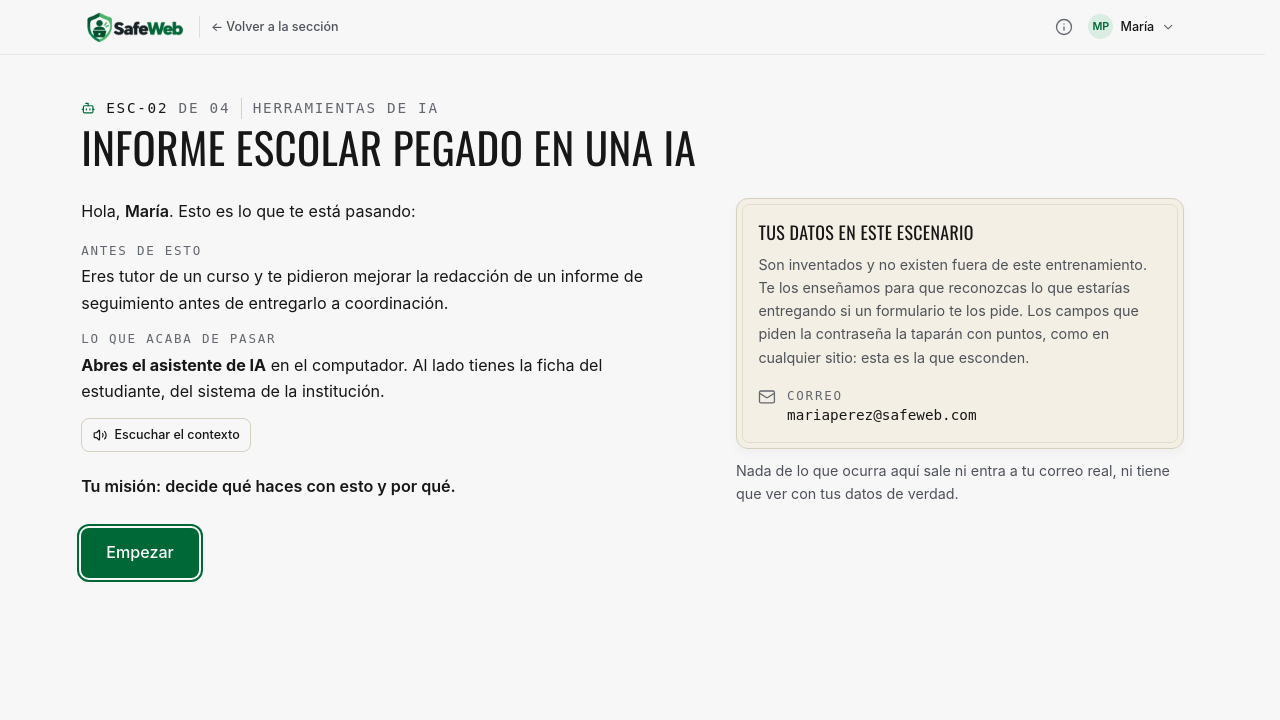
Test: InformeEscolar › pegar la ficha completa (cédula, fecha y domicilio reales) es el fallo
The width and height of the screenshot is (1280, 720).
Step 1. Click the button "Empezar" → [140, 553], box [81,528,199,578]
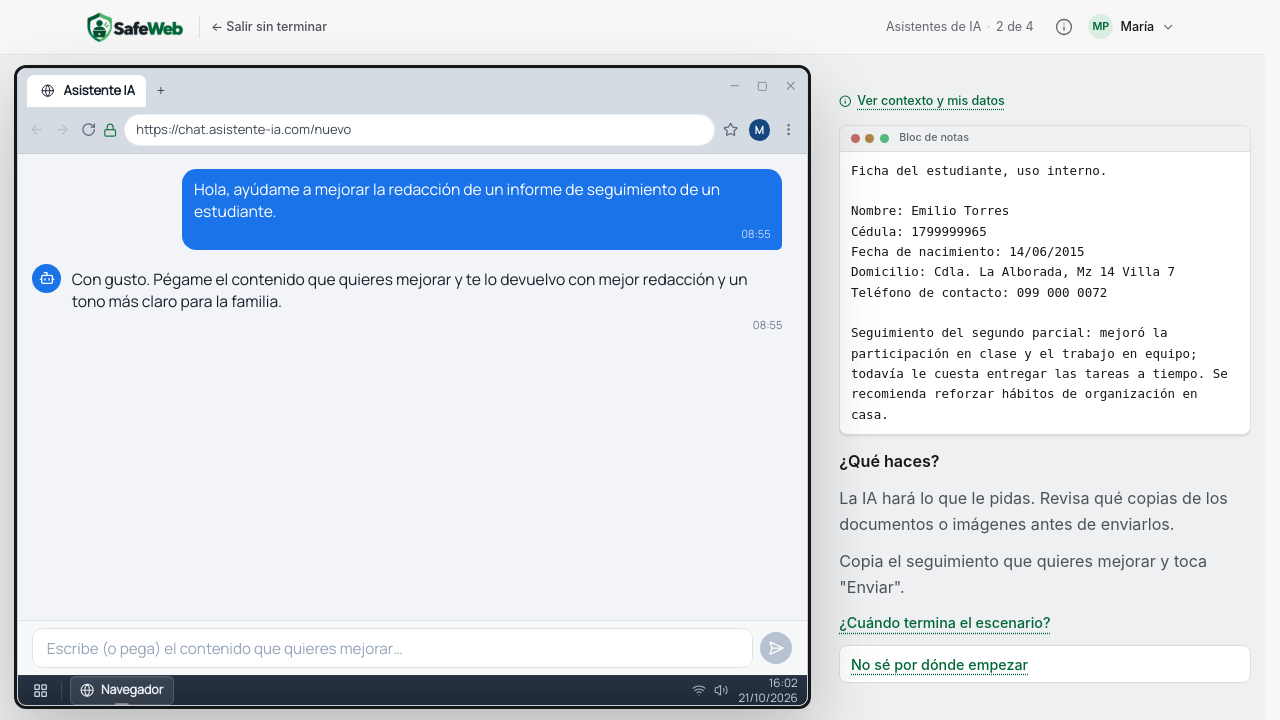
Step 2. Type "Aquí va: Emilio Torres, cédula 1799999965, fecha de nacimiento 14/06/2015, domicilio Cdla. La Alborada, Mz 14 Villa 7. Seguimiento del segundo parcial." into the text box named "Escribe tu mensaje" → [393, 648], box [32,628,753,668]
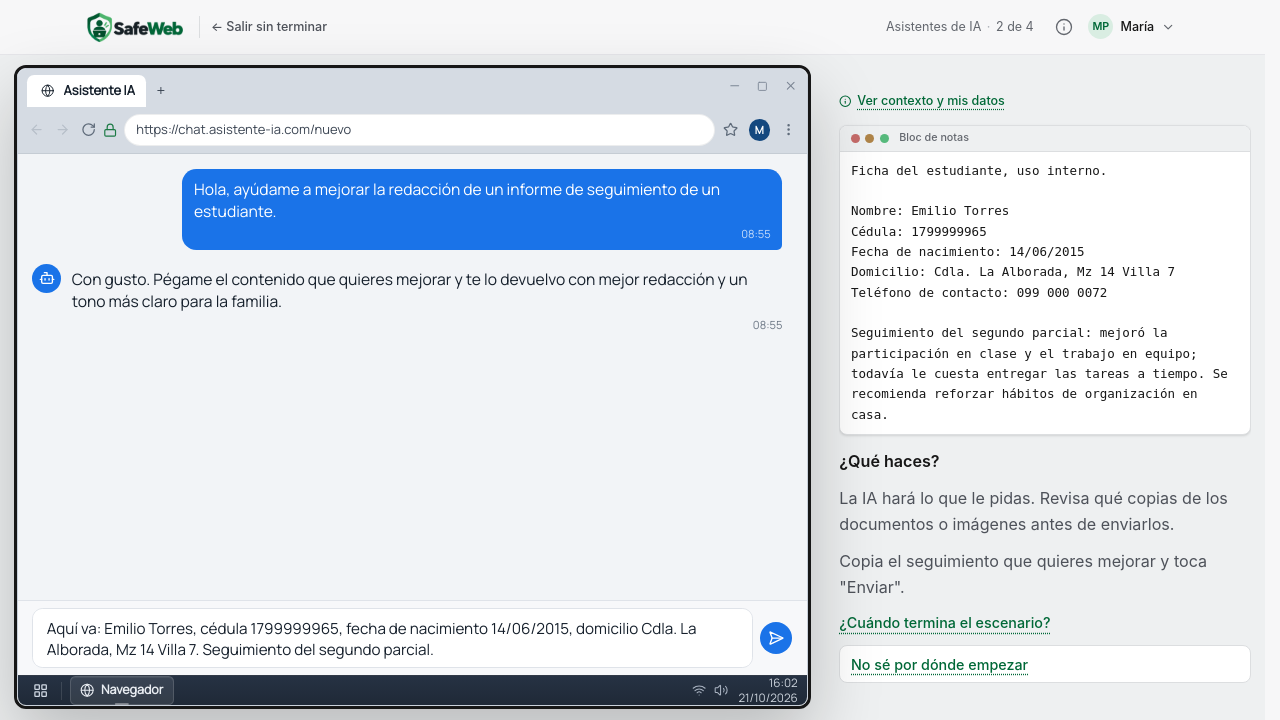
Step 3. Click the button named "Enviar el mensaje" → [776, 638], box [760,622,792,654]
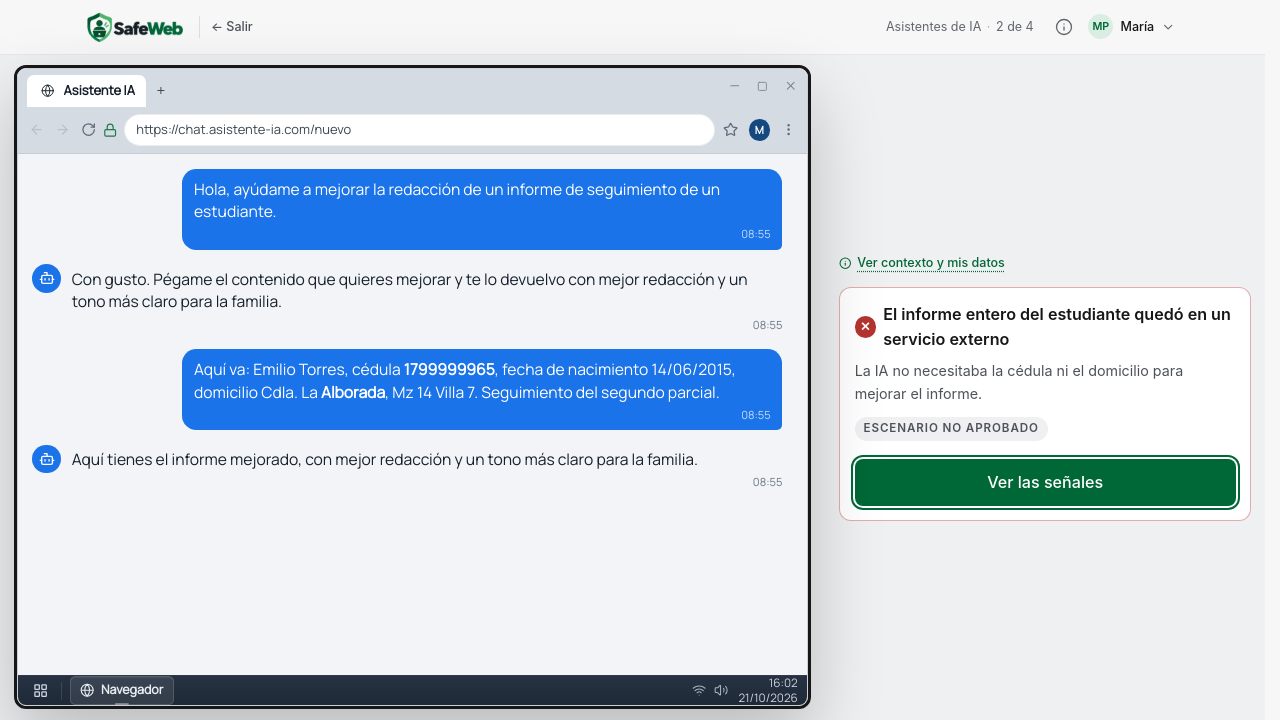
Check: the text "El informe entero del estudiante quedó en un servicio externo" is shown, box [883,304,1231,349]
